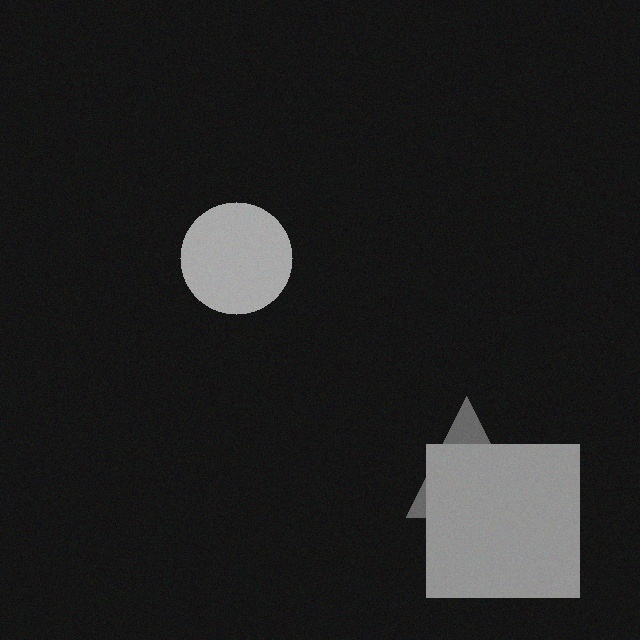circle: (175, 208, 287, 320)
square: (421, 450, 574, 603)
triangle: (401, 402, 522, 523)
